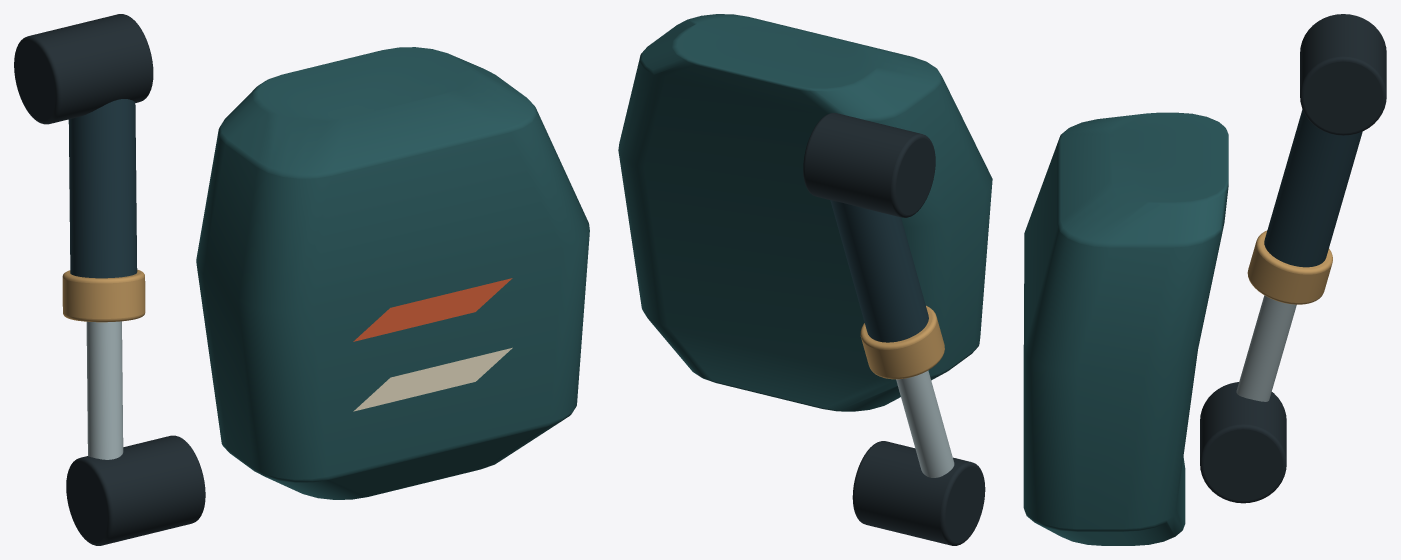
The model's file is SM_Mk2_Leg_L_06_Fairing.fbx.
3 views of the same model, side by side, from view 1: azimuth 30°, elevation 25°; view 2: azimuth 150°, elevation 25°; view 3: azimuth 270°, elevation 25° (orthographic). The views are drawn at different scales.
Visible parts, largest first — view 1: SM_Mk2_Leg_L_06_Fairing; view 2: SM_Mk2_Leg_L_06_Fairing; view 3: SM_Mk2_Leg_L_06_Fairing.
Part boxes in pixels (x1,y1,x2,y2): SM_Mk2_Leg_L_06_Fairing: [14, 14, 589, 545]; SM_Mk2_Leg_L_06_Fairing: [618, 14, 992, 545]; SM_Mk2_Leg_L_06_Fairing: [1023, 14, 1386, 545].
Size of the model in its own units: 24 by 19.37 by 26.1.
